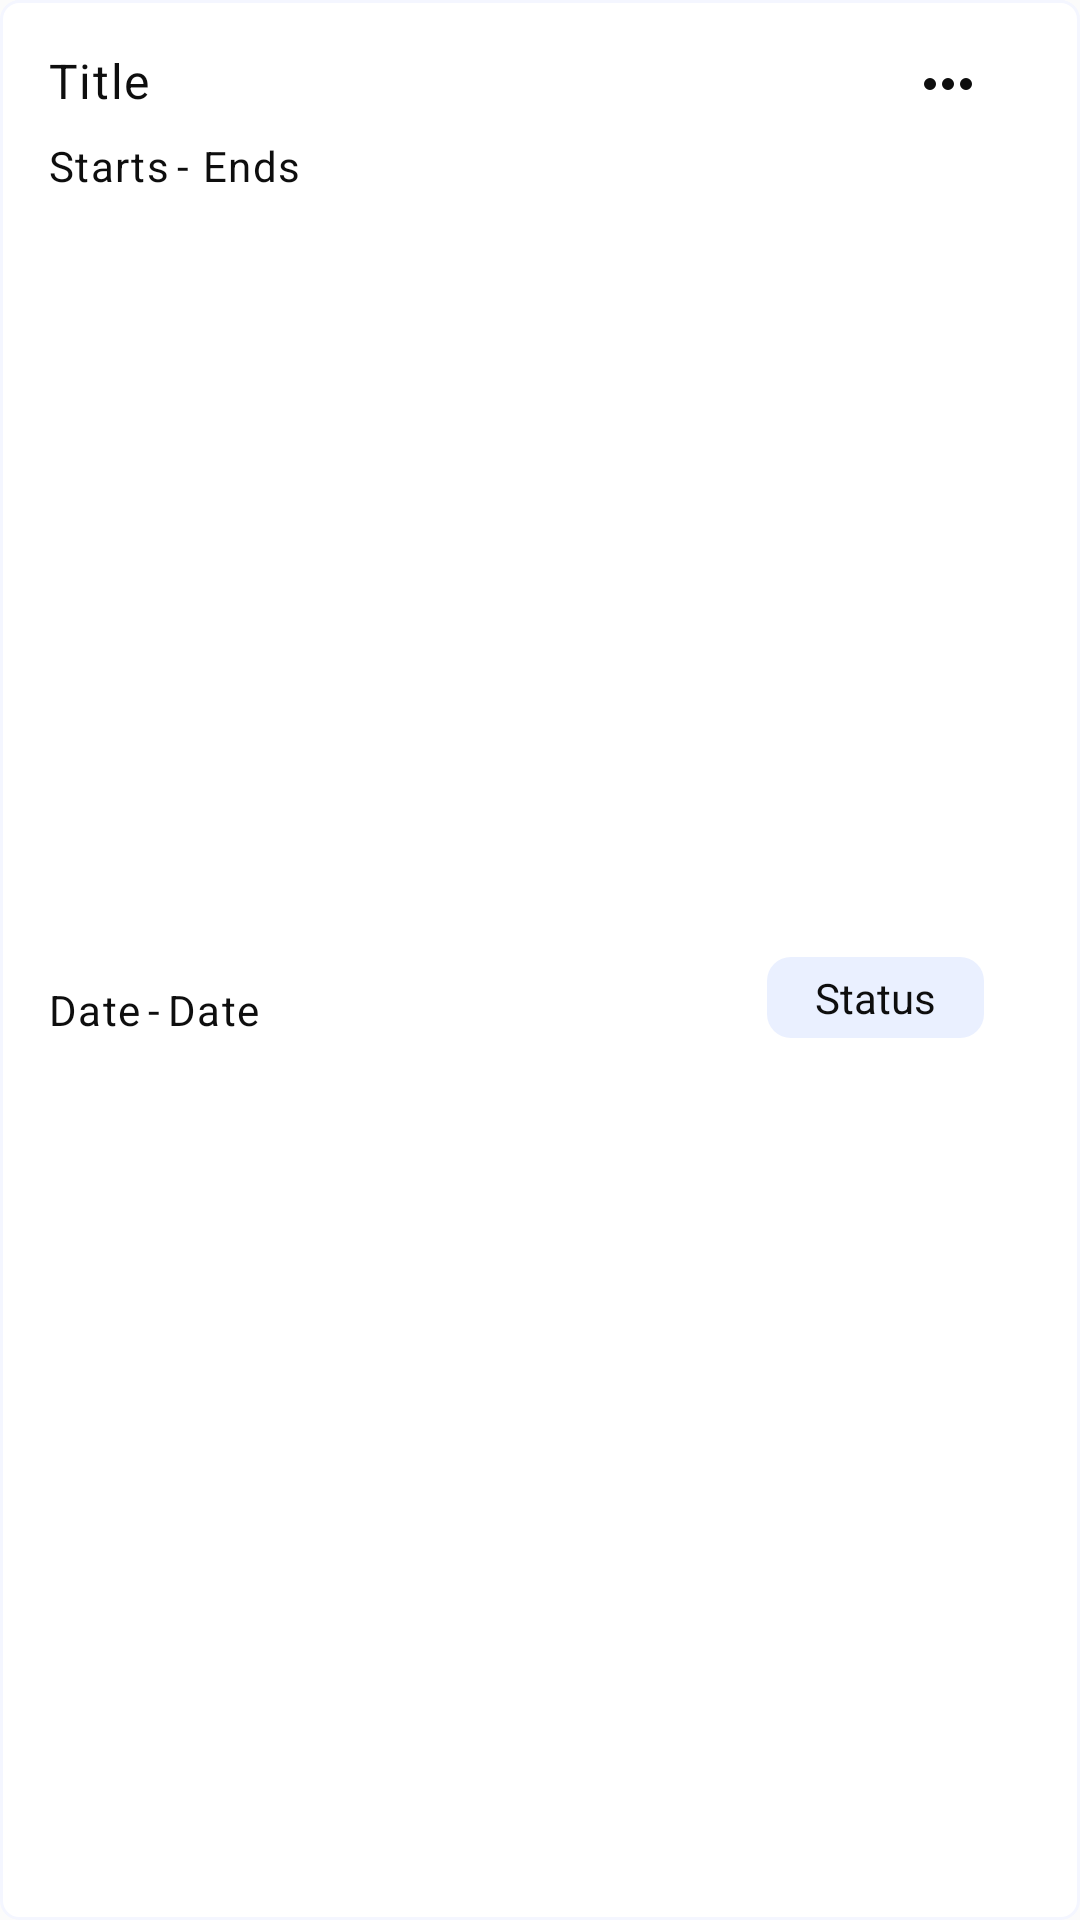

Icons on this 1080×1920 Android screen, each with its box as (x1, y1, x2, y2):
More Options: (924, 78, 972, 90)
